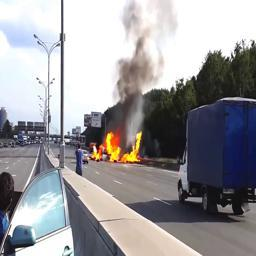fire: (92, 132, 142, 162)
